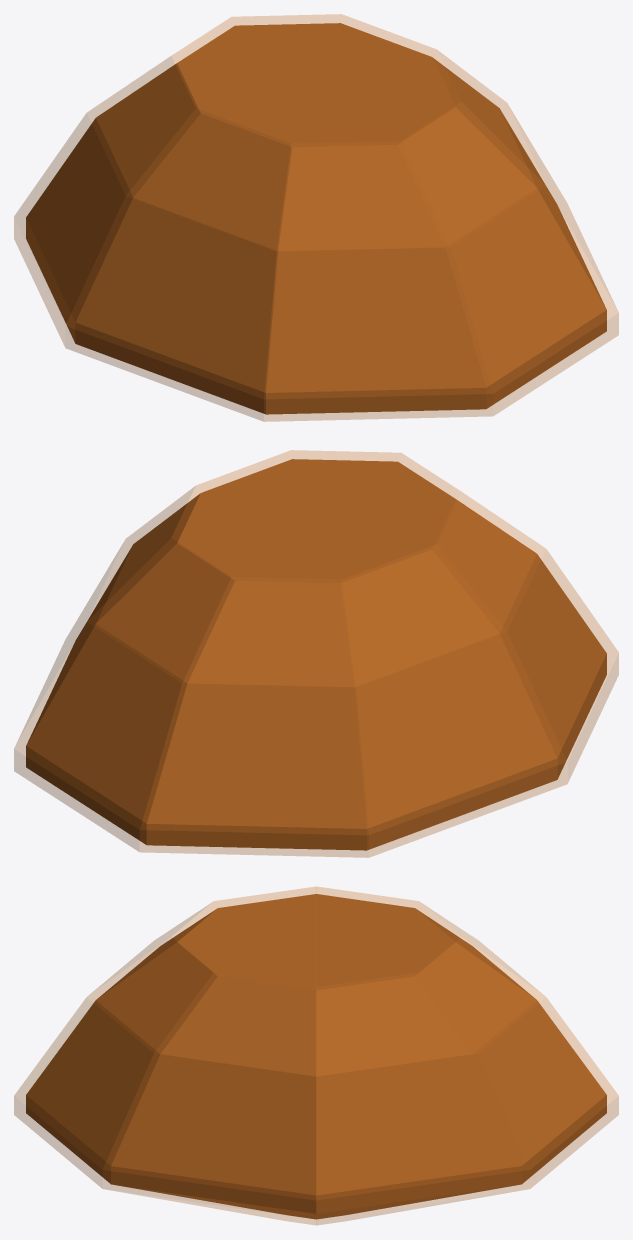
The model's file is item_item214.glb.
The picture shows the model from 3 angles, top to bottom: view 1: azimuth 30°, elevation 25°; view 2: azimuth 150°, elevation 25°; view 3: azimuth 270°, elevation 25°; orthographic projection. The views are drawn at different scales.
Visible parts, largest first — view 1: jewellery_item214_glass, jewellery_item214; view 2: jewellery_item214_glass, jewellery_item214; view 3: jewellery_item214_glass, jewellery_item214.
Boxes of the visible parts, bbox=[...] form: jewellery_item214_glass: bbox=[14, 14, 618, 421]; jewellery_item214: bbox=[26, 23, 606, 414]; jewellery_item214_glass: bbox=[14, 450, 618, 857]; jewellery_item214: bbox=[26, 459, 606, 850]; jewellery_item214_glass: bbox=[14, 886, 618, 1225]; jewellery_item214: bbox=[26, 894, 606, 1219].
Size of the model in its own units: 0.82 by 0.5 by 1.
